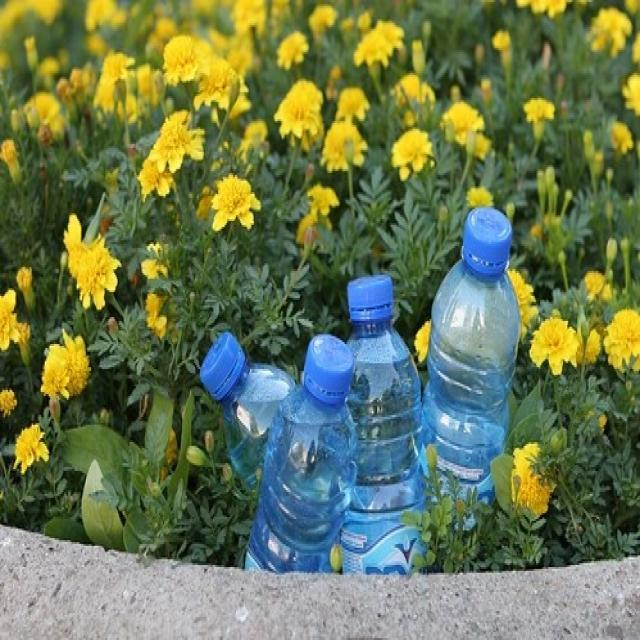plastic_bottle: (423, 207, 521, 505), (245, 333, 354, 572), (340, 274, 423, 574), (199, 331, 291, 492)
